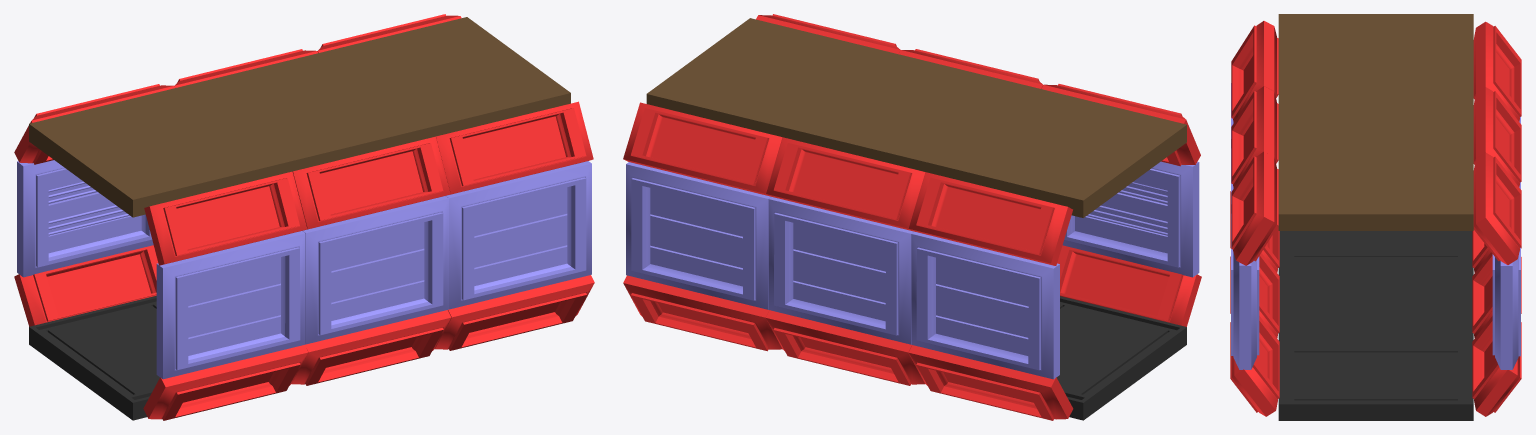
The model's file is Modulo_Cables.fbx.
3 views of the same model, side by side, from view 1: azimuth 30°, elevation 25°; view 2: azimuth 150°, elevation 25°; view 3: azimuth 270°, elevation 25° (orthographic). The views are drawn at different scales.
Visible parts, largest first — view 1: modulo relievecables, pared_Inclinada003, techo pasillo, suelo; view 2: modulo relievecables, pared_Inclinada003, techo pasillo, suelo; view 3: techo pasillo, suelo, pared_Inclinada003, modulo relievecables.
Boxes of the visible parts, box(x1,y1,x2,y2) form: modulo relievecables: box(17, 160, 591, 379); pared_Inclinada003: box(14, 14, 594, 420); techo pasillo: box(29, 17, 570, 217); suelo: box(29, 295, 159, 420); modulo relievecables: box(626, 161, 1199, 379); pared_Inclinada003: box(623, 14, 1201, 420); techo pasillo: box(646, 18, 1186, 217); suelo: box(1056, 296, 1186, 420); techo pasillo: box(1278, 14, 1473, 230); suelo: box(1278, 231, 1473, 420); pared_Inclinada003: box(1230, 21, 1521, 416); modulo relievecables: box(1231, 83, 1520, 369).
Size of the model in its own units: 12.6 by 6.06 by 7.75.
